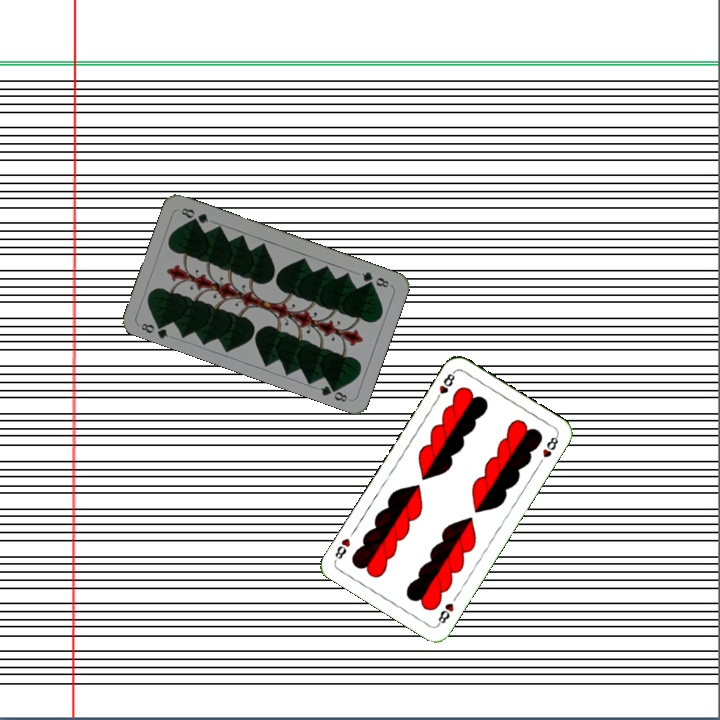G8: (137, 317, 171, 341), (358, 267, 392, 290)
H8: (431, 367, 458, 404), (434, 599, 457, 628)
